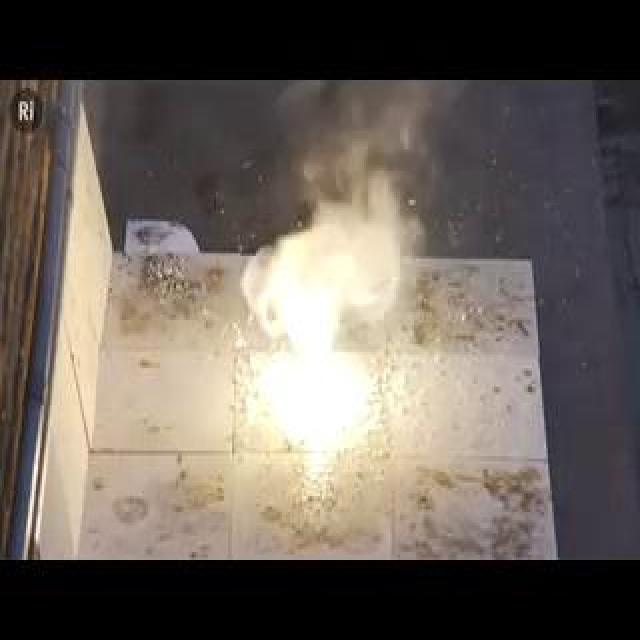Fire: (251, 229, 391, 459)
